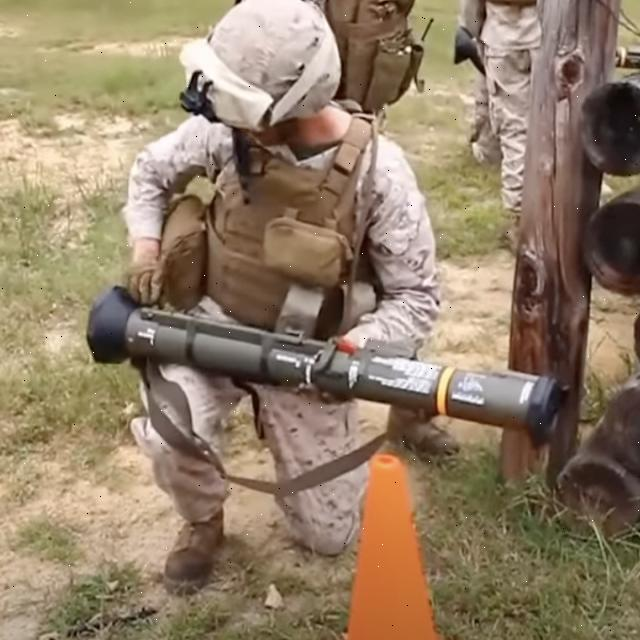bazooka: (67, 261, 578, 468)
